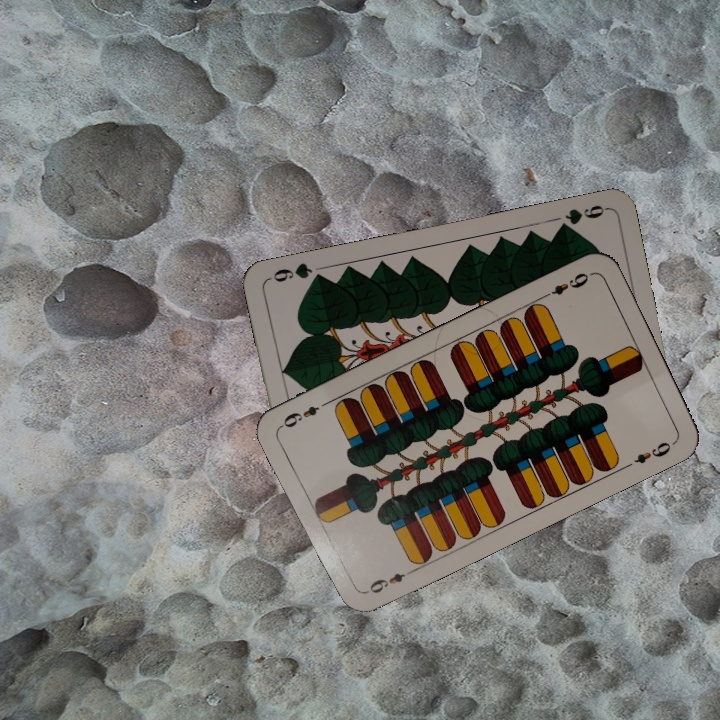E9: (538, 268, 592, 301), (360, 566, 415, 597)
G9: (553, 201, 609, 234)
